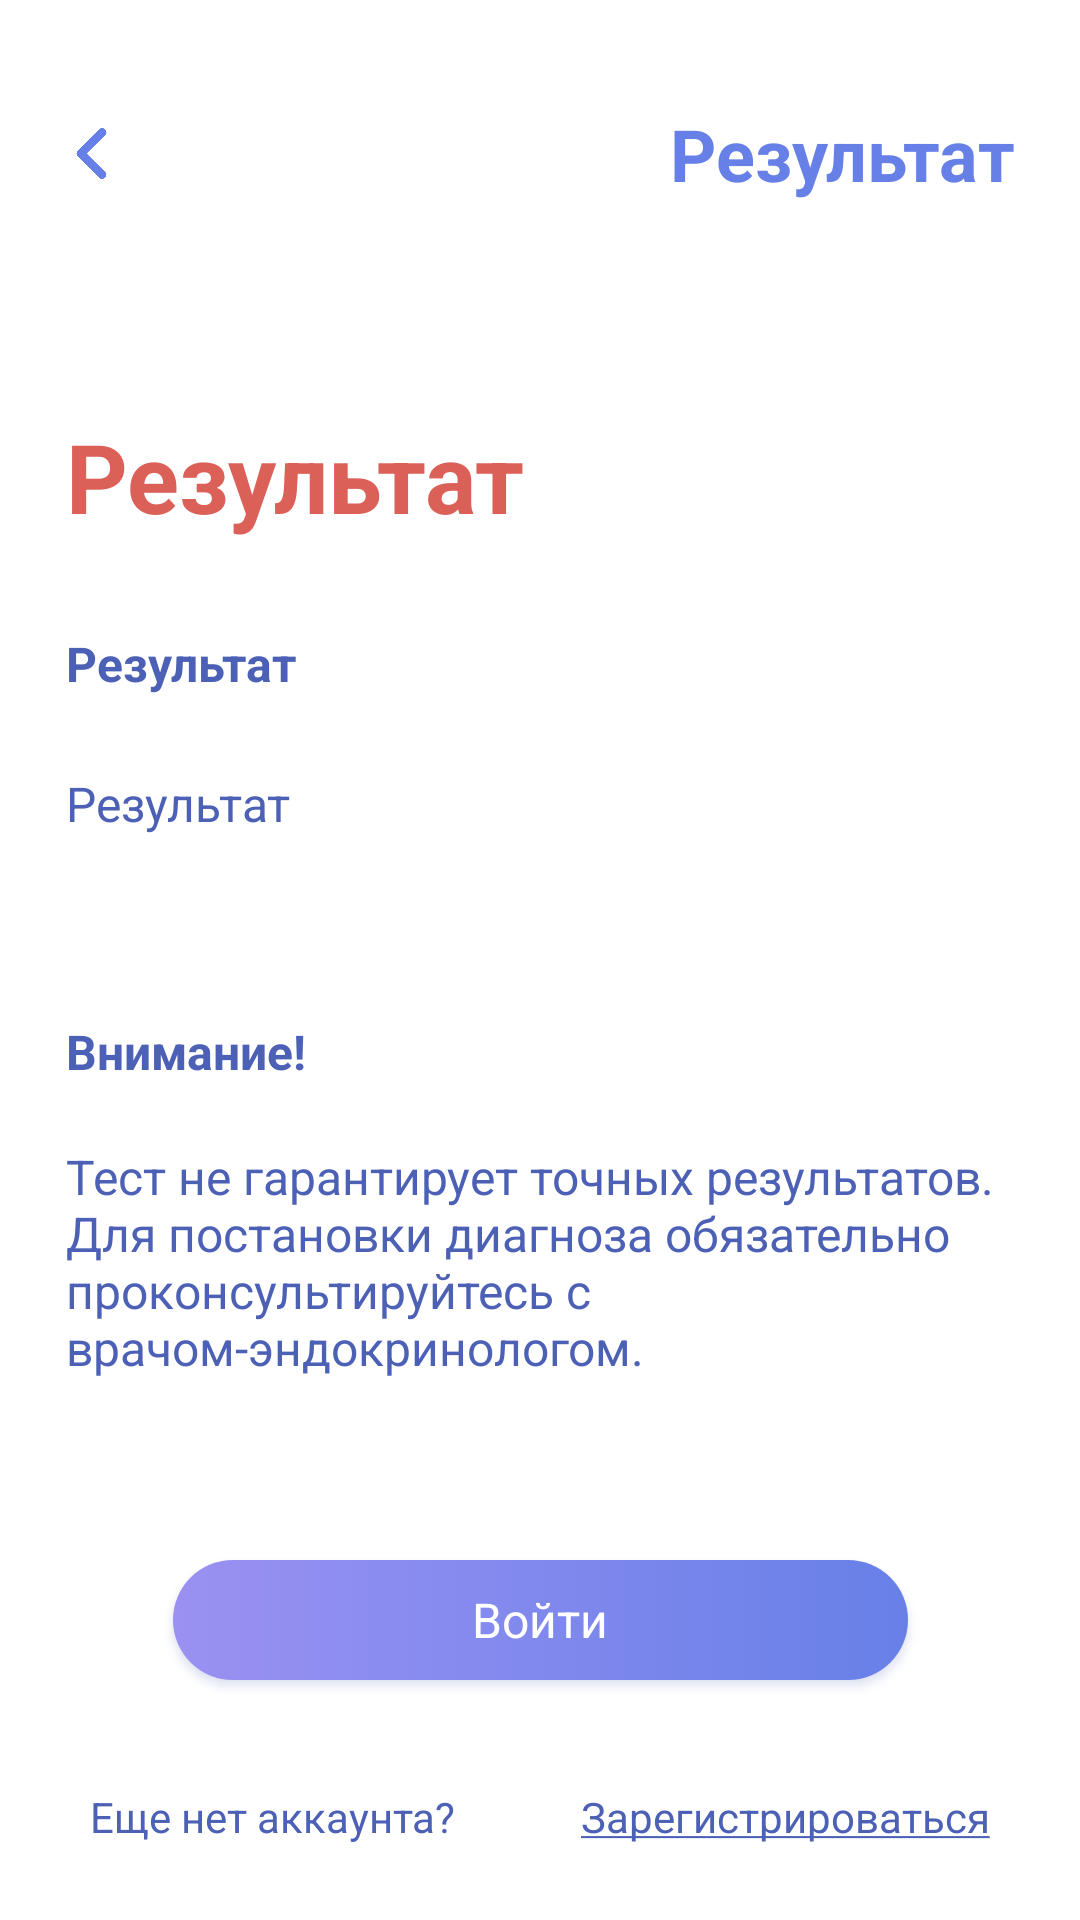

Point at icon controls on the screen. Image size 1080w x 1920h, points as (x,y).
back: (91,153)
